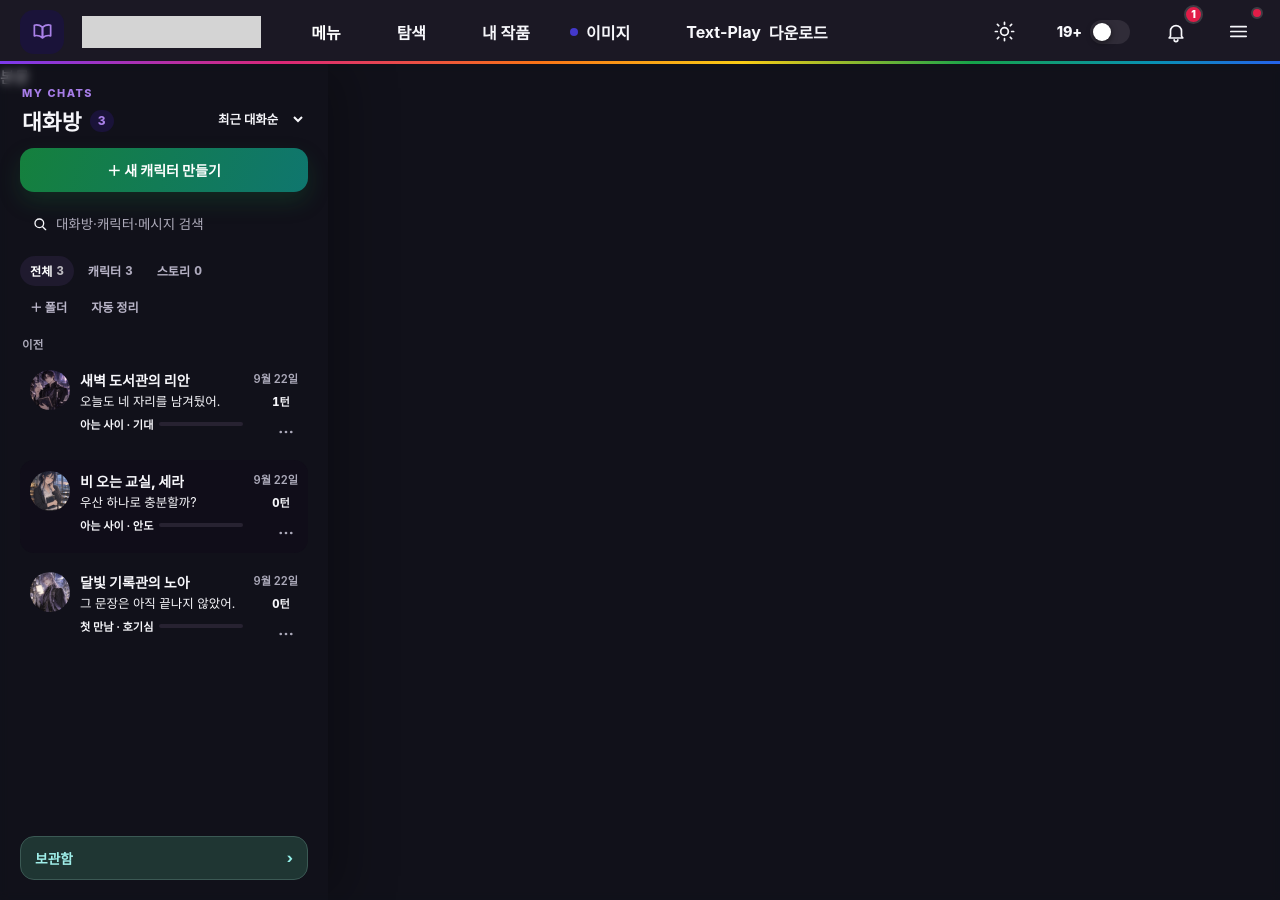
Test case: 대화 목록과 보관함 검색 › 왼쪽 대화 목록은 지난 말로도 대화를 찾고, 누르면 그 말로 간다
Type "창가" into the search field named "대화방 검색". click: (164, 224)
box: [20, 204, 308, 244]
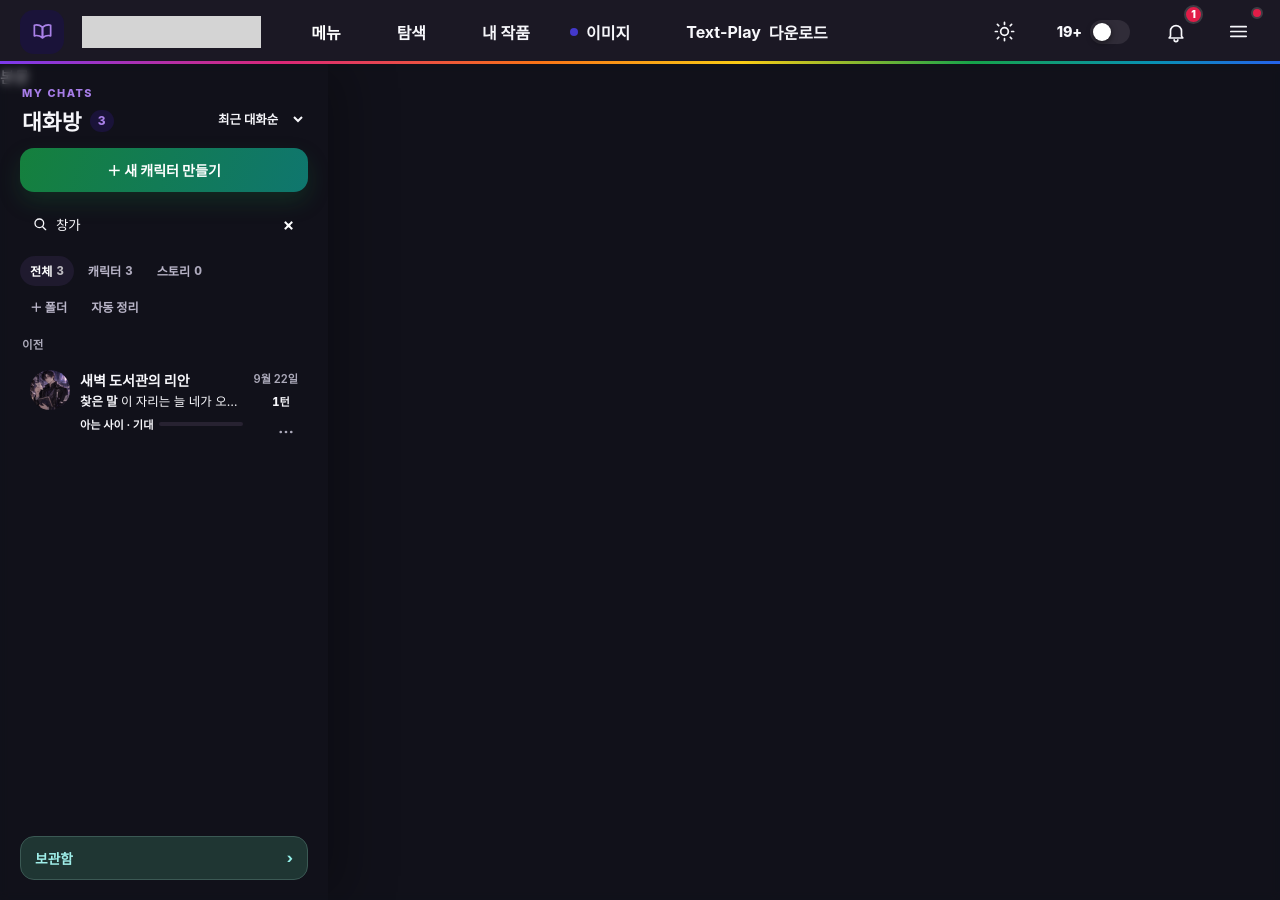
Result: the link "새벽 도서관의 리안 찾은 말 이 자리는 늘 네가 오던 창가야. 아는 사이 · 기대 9월 22일 1턴" is shown at [20, 359, 308, 452]
